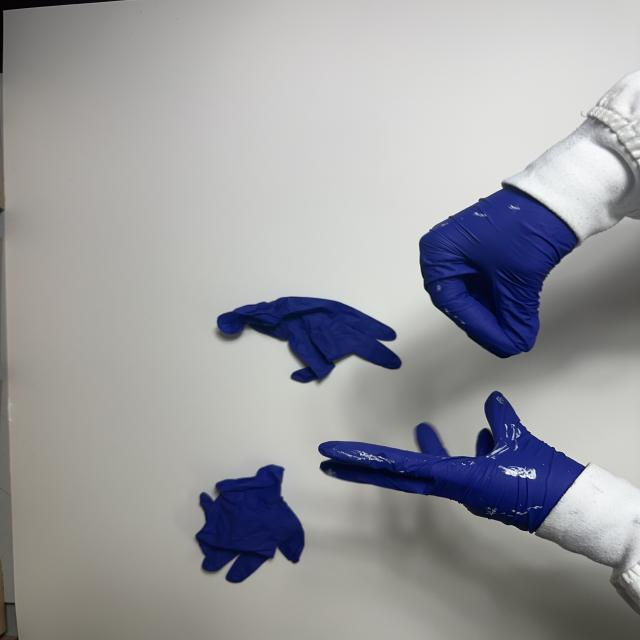gloves_contaminated: (318, 391, 584, 533), (420, 187, 578, 358)
